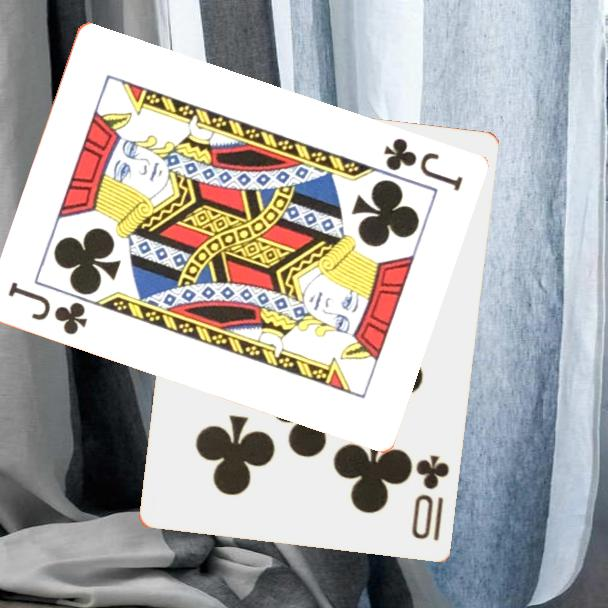c10: (408, 451, 452, 543)
c11: (379, 134, 466, 195), (4, 279, 90, 338)
